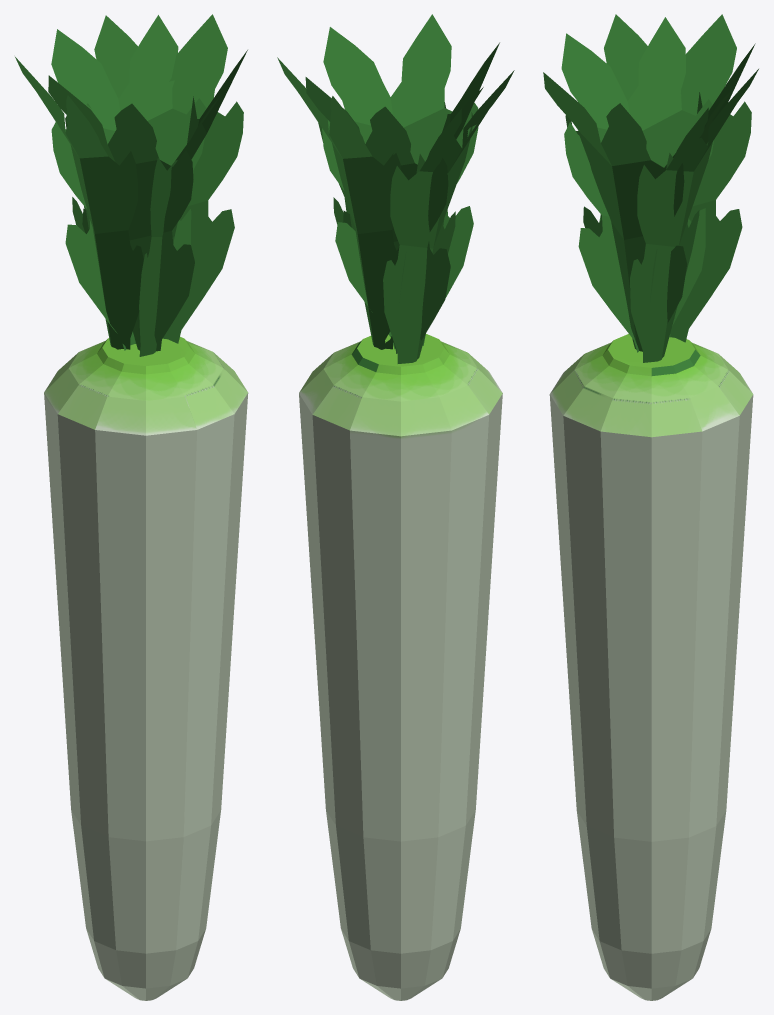
File: Daikon.fbx
The picture shows the model from 3 angles, left to right: view 1: azimuth 30°, elevation 25°; view 2: azimuth 150°, elevation 25°; view 3: azimuth 270°, elevation 25°; orthographic projection.
Parts seen in each view (by area): view 1: Body; view 2: Body; view 3: Body.
Part boxes in pixels (x1=…): Body: x1=15, y1=14, x2=248, y2=1000; Body: x1=277, y1=14, x2=514, y2=1000; Body: x1=543, y1=14, x2=758, y2=1000.
Bounding box in the file's own units: 178 × 819 × 172.
